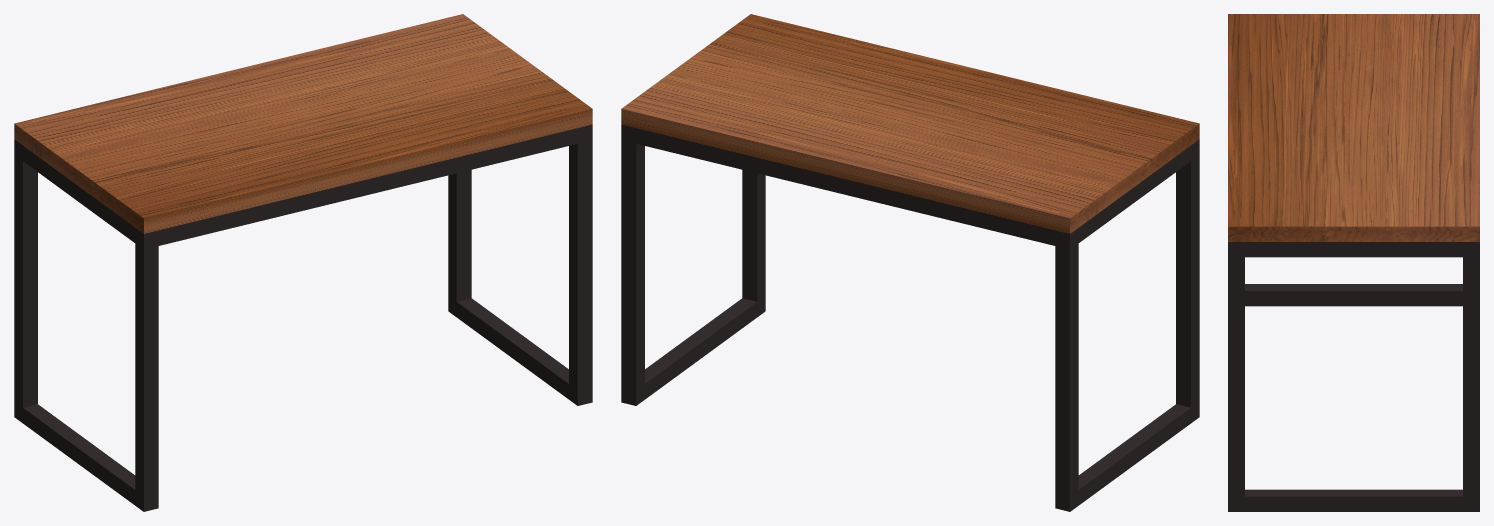
Rendered from stol111.gltf.
3 renders of one model, left to right at view 1: azimuth 30°, elevation 25°; view 2: azimuth 150°, elevation 25°; view 3: azimuth 270°, elevation 25°, orthographic. The views are drawn at different scales.
Visible parts, largest first — view 1: Stoleshnica, Podstolie; view 2: Stoleshnica, Podstolie; view 3: Stoleshnica, Podstolie.
Boxes of the visible parts, box(x1,y1,x2,y2) form: Stoleshnica: box(14, 14, 592, 233); Podstolie: box(14, 124, 592, 511); Stoleshnica: box(621, 14, 1199, 233); Podstolie: box(621, 124, 1199, 511); Stoleshnica: box(1228, 14, 1479, 241); Podstolie: box(1228, 242, 1479, 511).
Bounding box in the file's own units: 1.2 × 0.75 × 0.6.
Materials: 2 (1 with a texture image).
